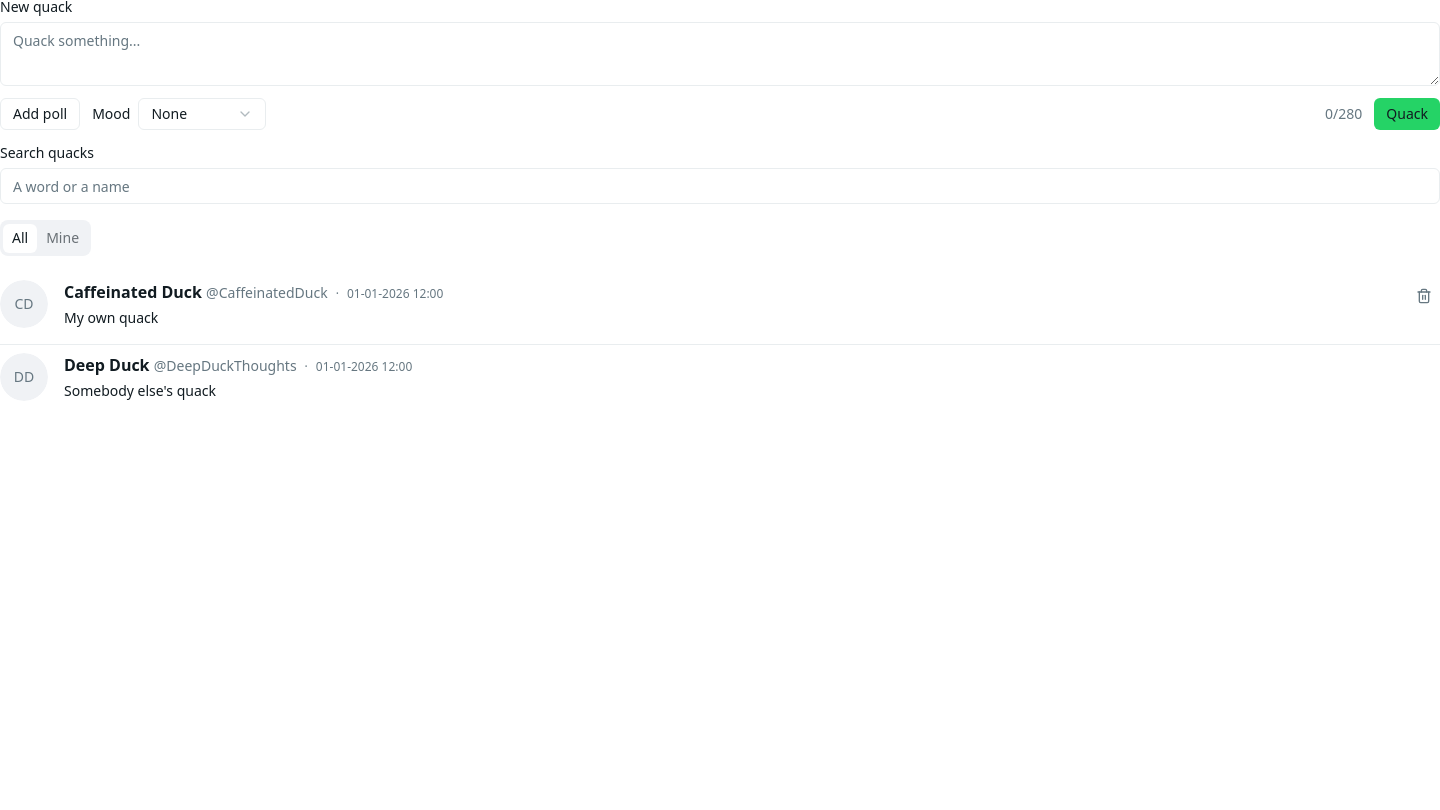
Scenario: QuackFeed delete and Mine › deleting › deletes on confirm and the quack leaves the feed
This screenshot has width=1440, height=810.
Expected: the text "My own quack" is shown, x1=64 y1=308 x2=158 y2=327
Click the button named "Delete quack": [1424, 296] box x1=1408 y1=280 x2=1439 y2=312
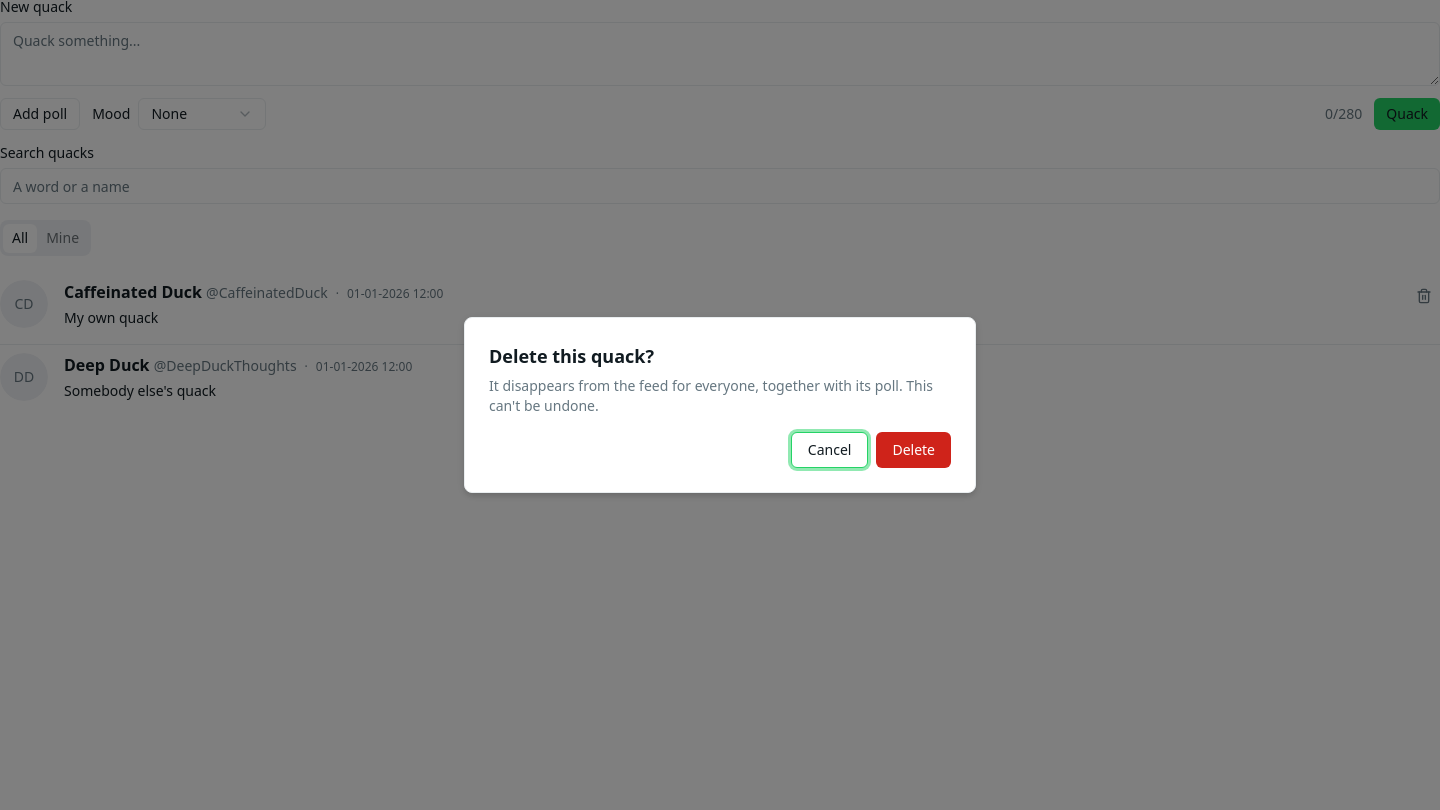
Click the button "Delete": [914, 450] box x1=876 y1=432 x2=951 y2=468
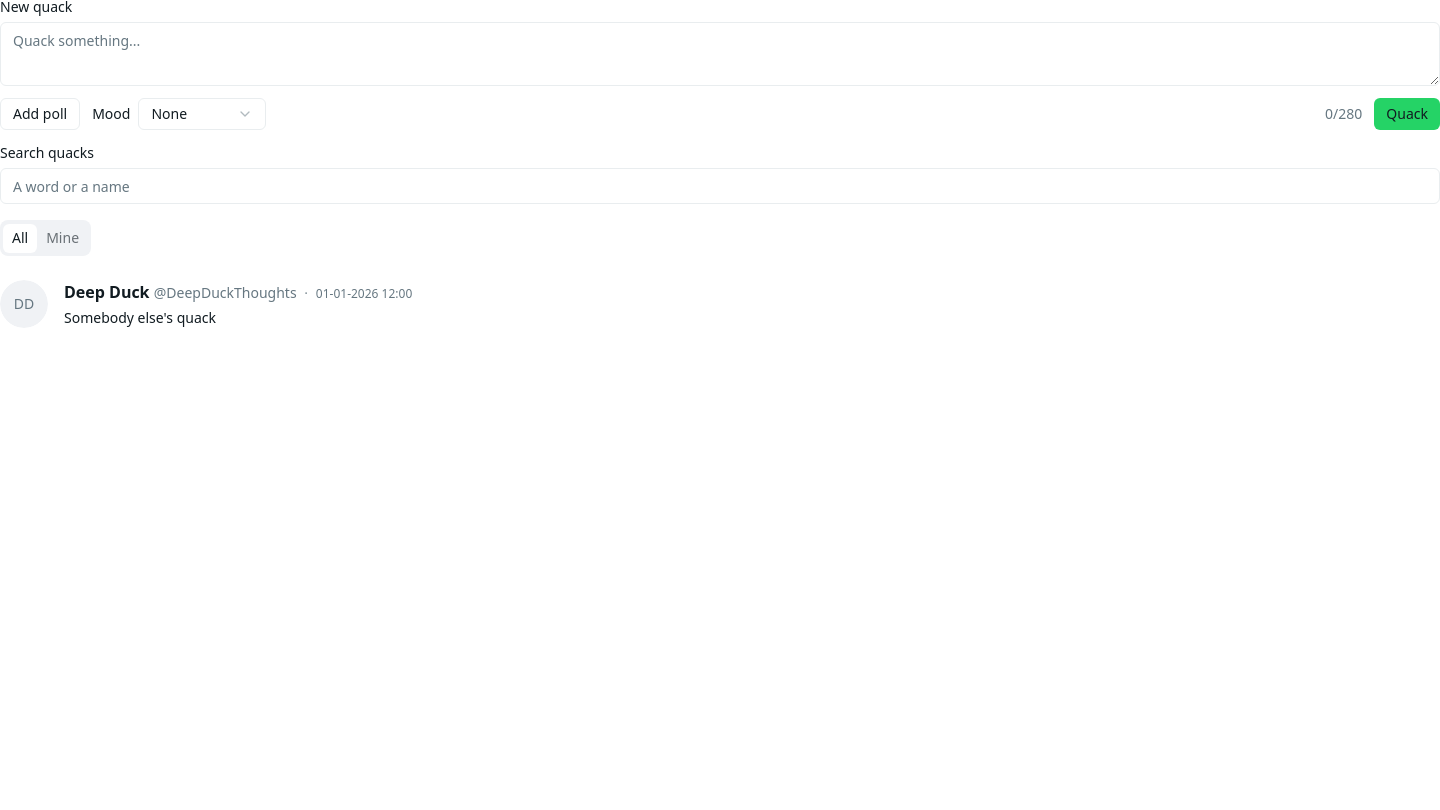
Expected: the text "Somebody else's quack" is shown, x1=64 y1=308 x2=216 y2=327
Expected: the text "My own quack" is gone
Expected: the dialog is gone
